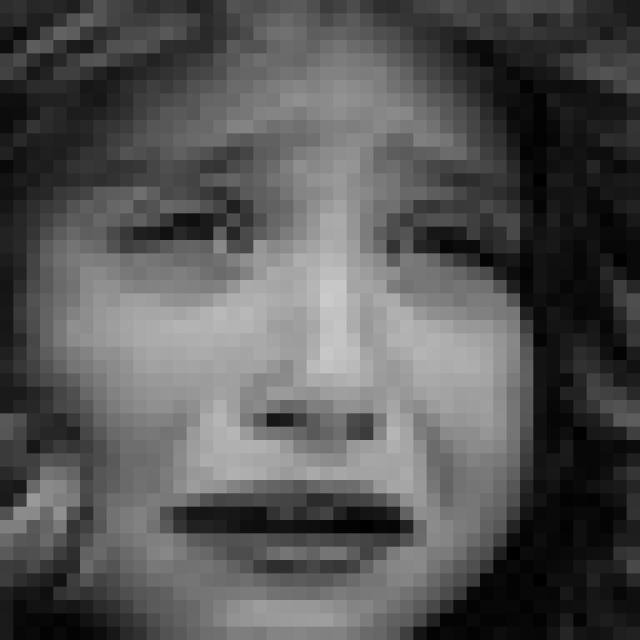sad: (79, 121, 523, 588)
